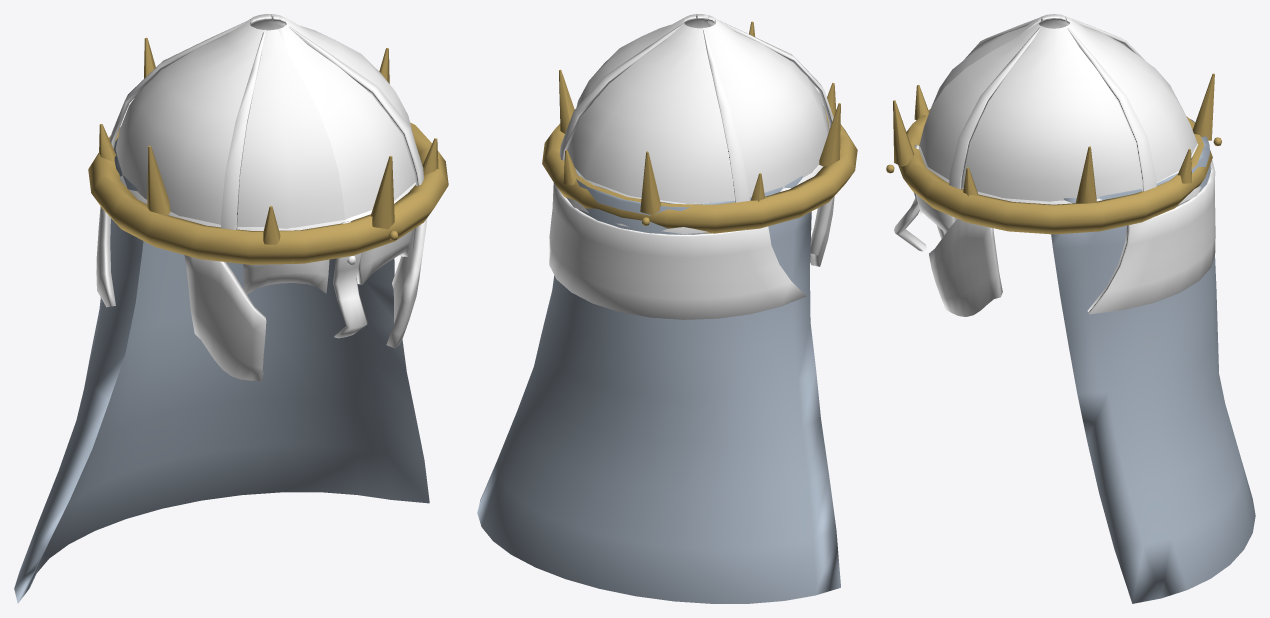
File: helm-huscarl-crowned.glb
3 views of the same model, side by side, from view 1: azimuth 30°, elevation 25°; view 2: azimuth 150°, elevation 25°; view 3: azimuth 270°, elevation 25° (orthographic). The views are drawn at different scales.
Visible parts, largest first — view 1: helm-huscarl-crowned; view 2: helm-huscarl-crowned; view 3: helm-huscarl-crowned.
Part boxes in pixels (<box>): helm-huscarl-crowned: <box>14,14,448,603</box>; helm-huscarl-crowned: <box>477,14,857,603</box>; helm-huscarl-crowned: <box>886,14,1255,603</box>.
Bounding box in the file's own units: 0.3753 × 0.4912 × 0.3325.
